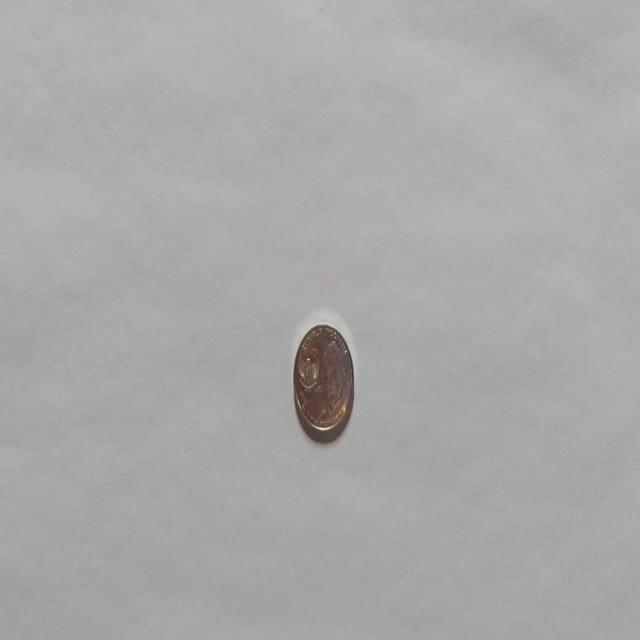dua ratus rupiah: (292, 321, 354, 441)
